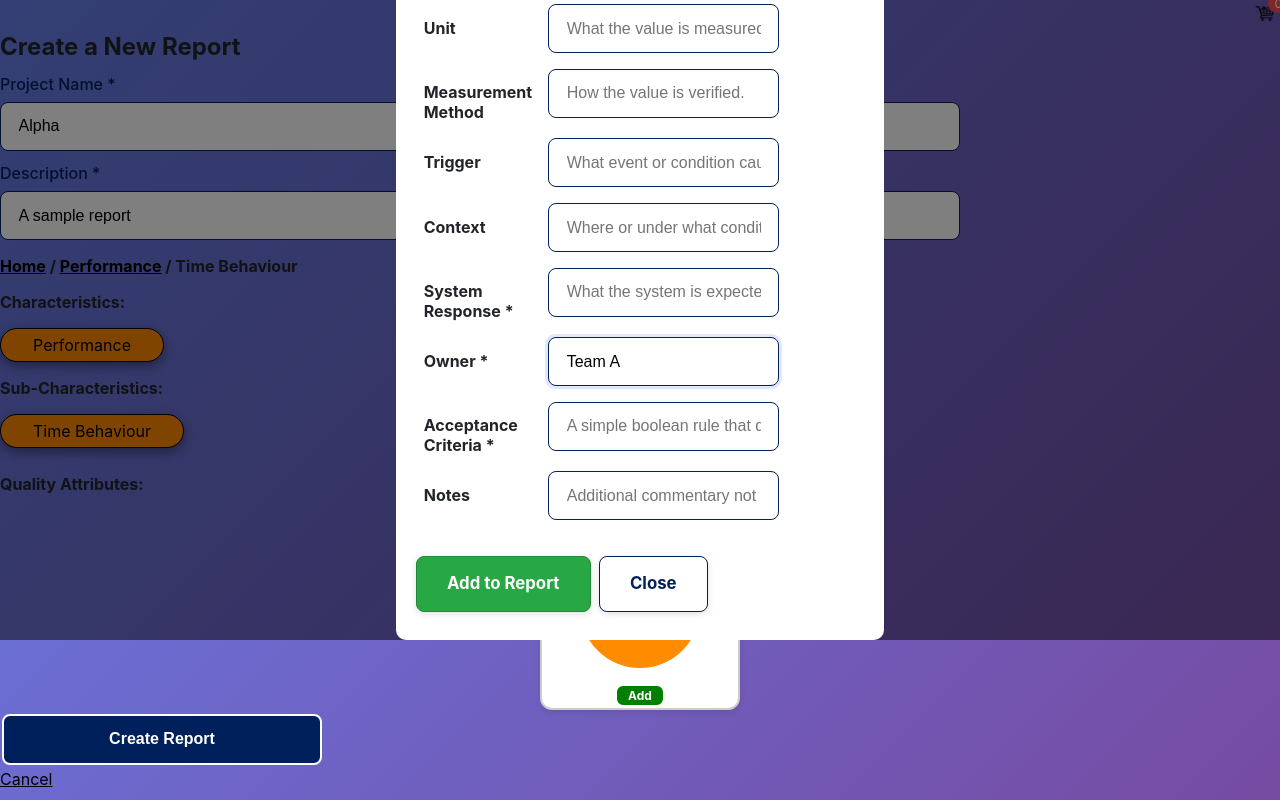
Scenario: ReportForm › missing mandatory field:  System Response
Earlier steps of the test are not shown.
(page scrolled)
Type "p95 under 2s" into the field labelled "Acceptance Criteria *". click: x=664, y=426
box: x1=548 y1=402 x2=779 y2=451
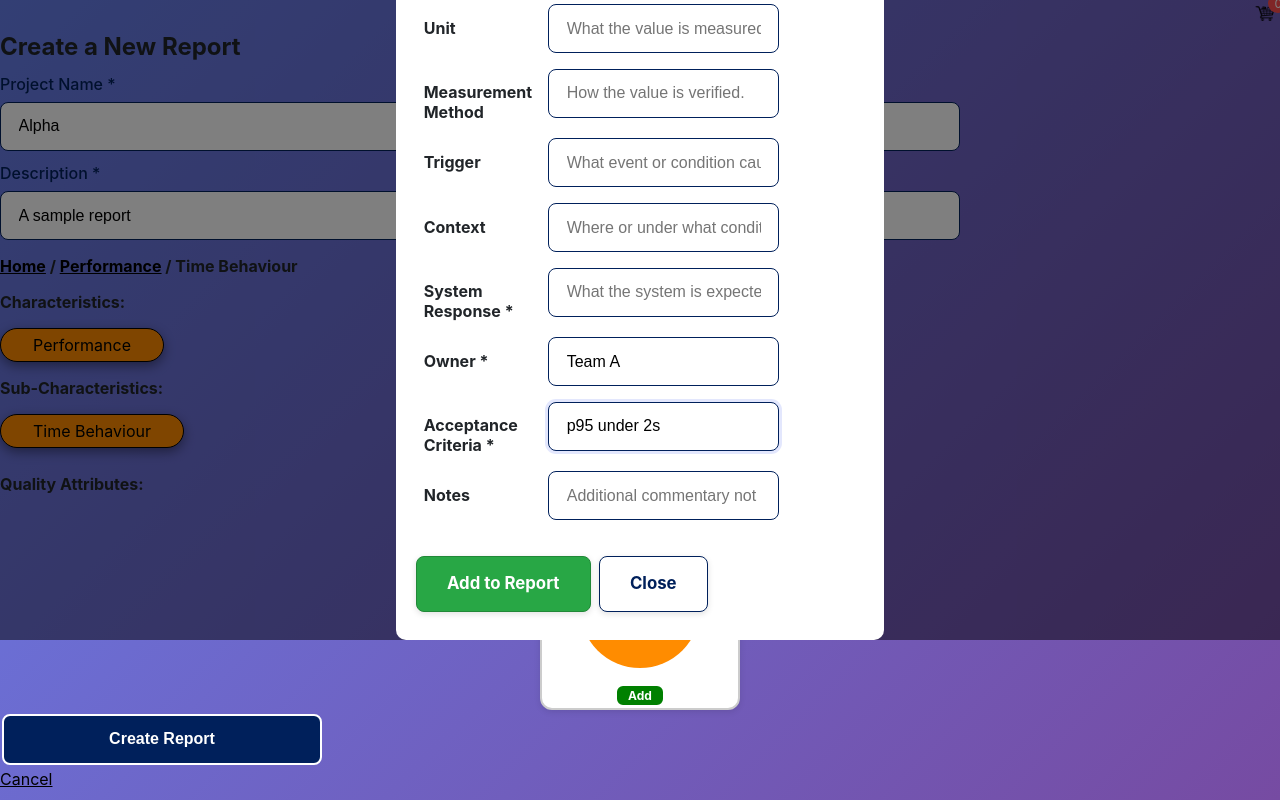
Click the button "Add to Report". click: x=503, y=584
box: x1=416 y1=556 x2=591 y2=612
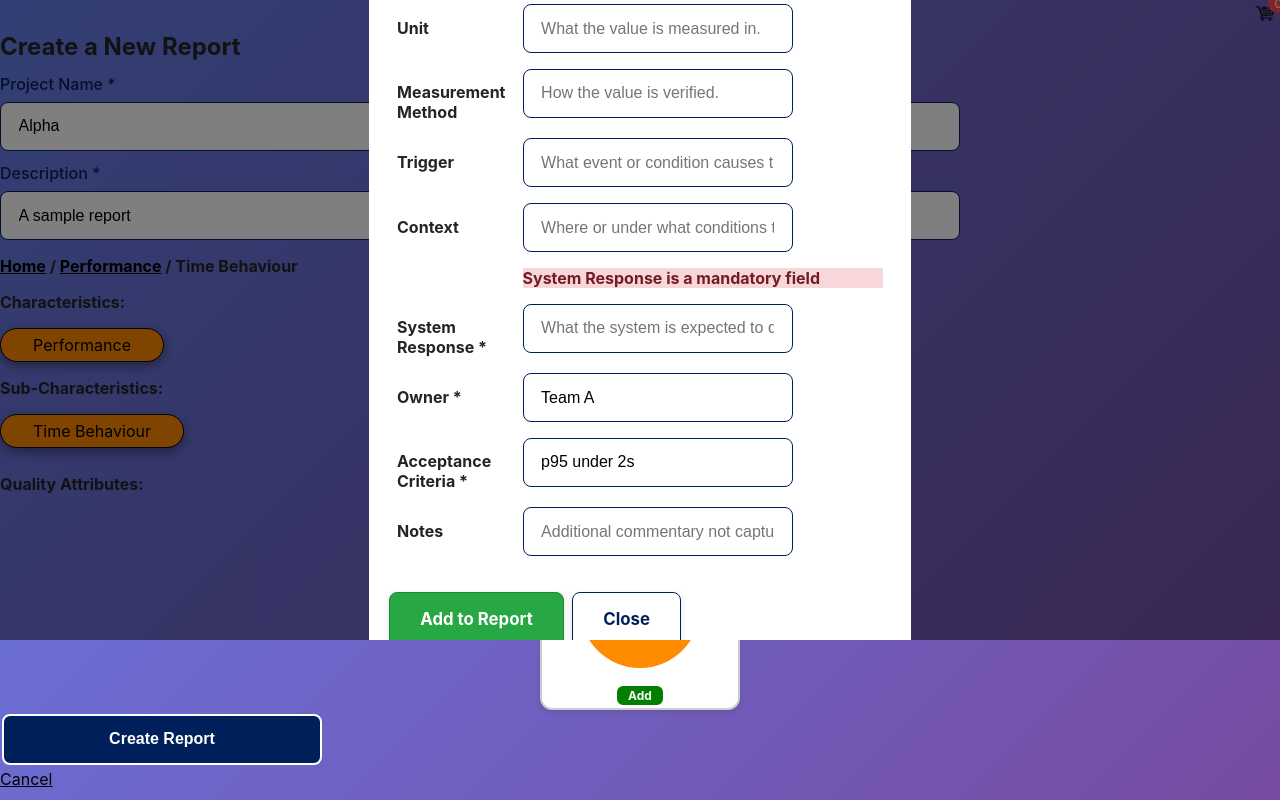
Now the text "System Response is a mandatory field" is shown, box x1=522 y1=268 x2=883 y2=288
